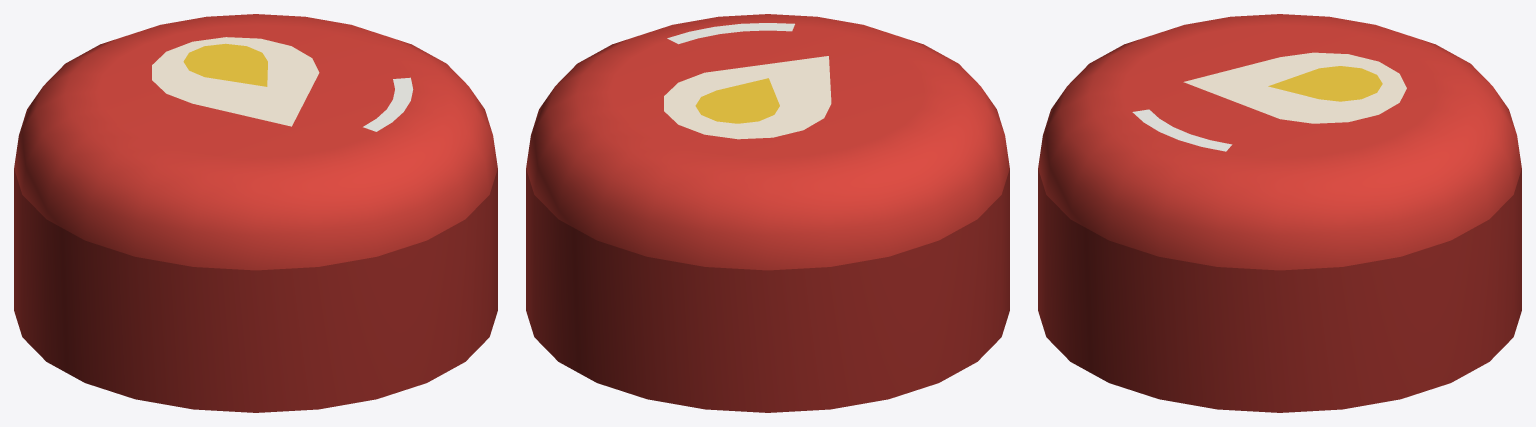
File: BotonExtintor.fbx
The picture shows the model from 3 angles, left to right: view 1: azimuth 30°, elevation 25°; view 2: azimuth 150°, elevation 25°; view 3: azimuth 270°, elevation 25°; orthographic projection.
Visible parts, largest first — view 1: BotonExtintor; view 2: BotonExtintor; view 3: BotonExtintor.
Part boxes in pixels (box(x1,y1,x2,y2)): BotonExtintor: box(14, 14, 497, 412); BotonExtintor: box(526, 14, 1009, 412); BotonExtintor: box(1038, 14, 1521, 412).
Bounding box in the file's own units: 0.4 × 0.207 × 0.4.
Materials: 1 (1 with a texture image).
